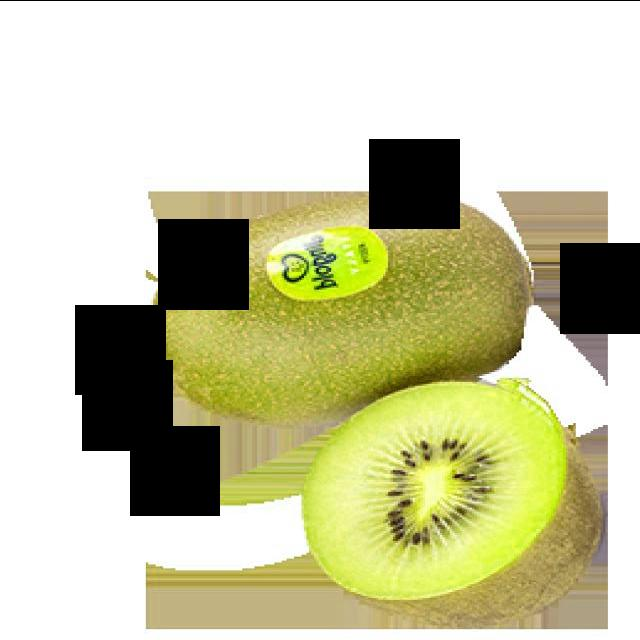kiwi: (147, 187, 538, 435)
